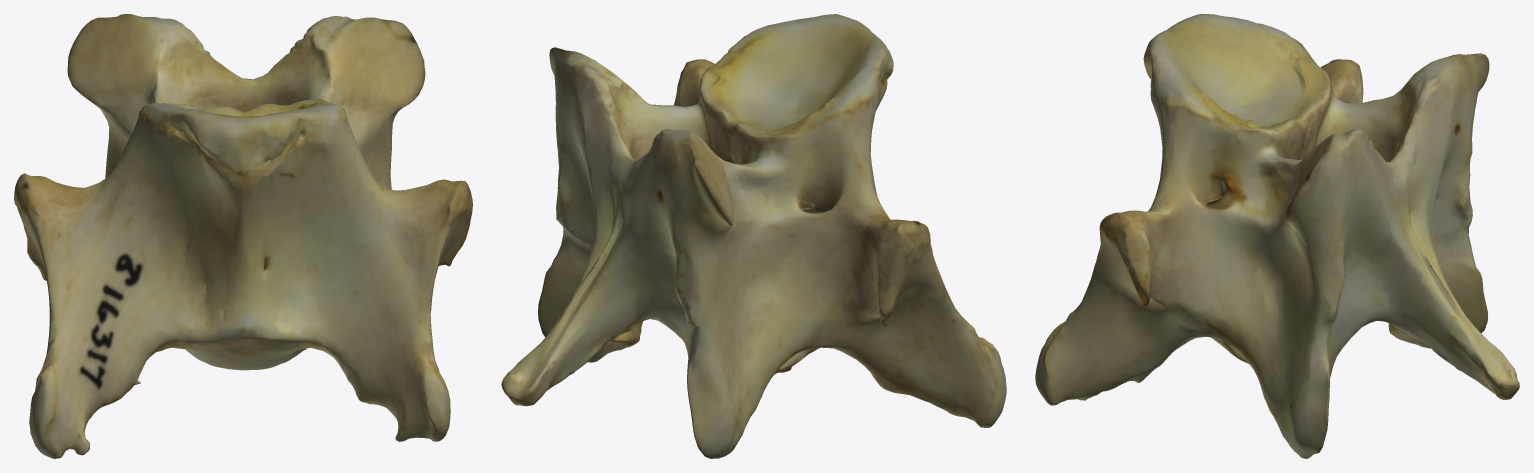
The model's file is vertebra-compact.obj.
3 renders of one model, left to right at view 1: azimuth 30°, elevation 25°; view 2: azimuth 150°, elevation 25°; view 3: azimuth 270°, elevation 25°, orthographic.
Size of the model in its own units: 53.56 by 40.49 by 54.2.
1 material, 1 textured.
